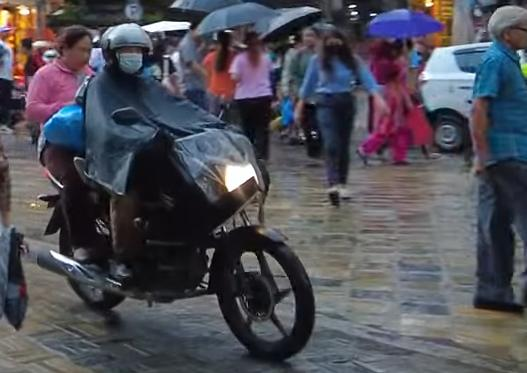bike: (34, 104, 316, 364)
